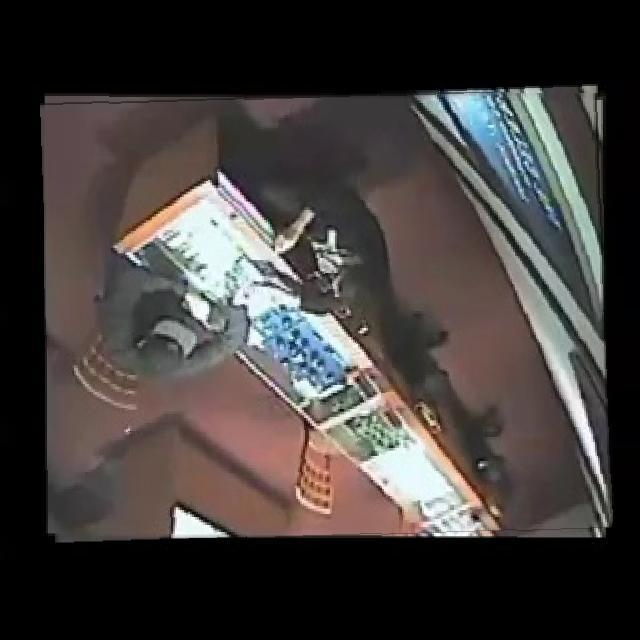Normal: (44, 89, 612, 538)
